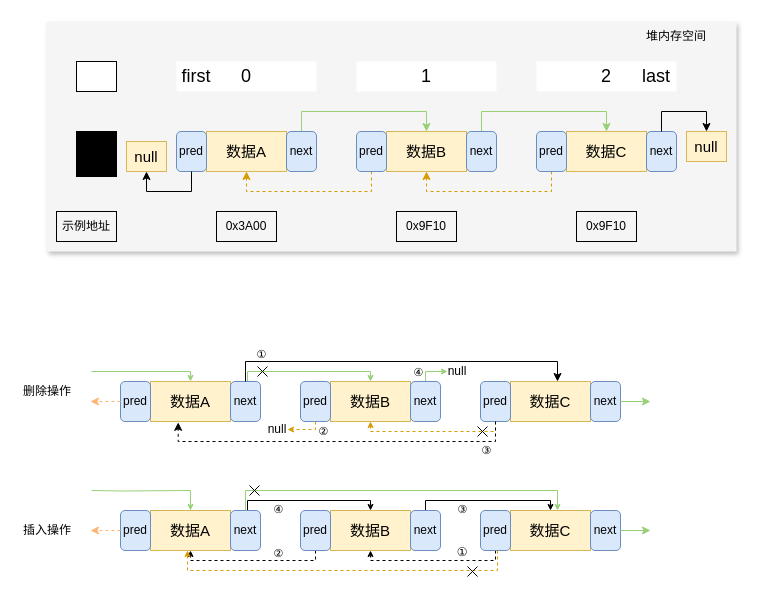
Image size: 759x594. Some labels were removed from this diagram. The shapes that lost their labels are listed below. From the top down, each one's centre as x and y in pixels, then its label:
At (x=96, y=76): "索引".
At (x=96, y=153): "Node".
